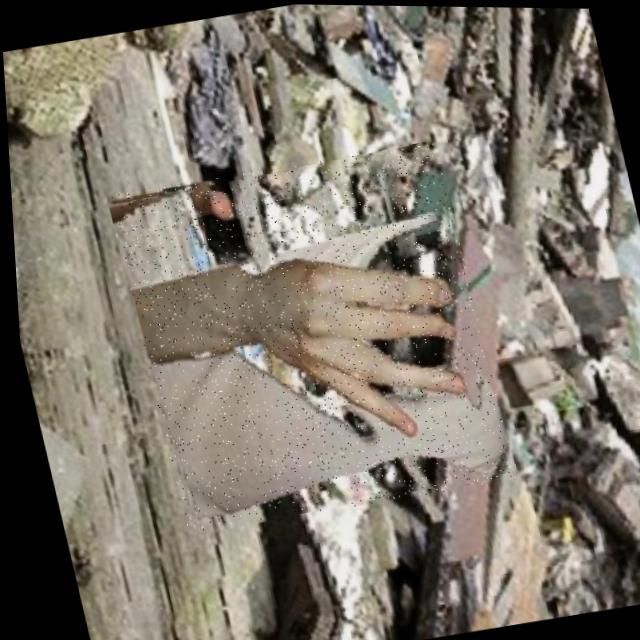Person in Rubble: (102, 137, 512, 536)
